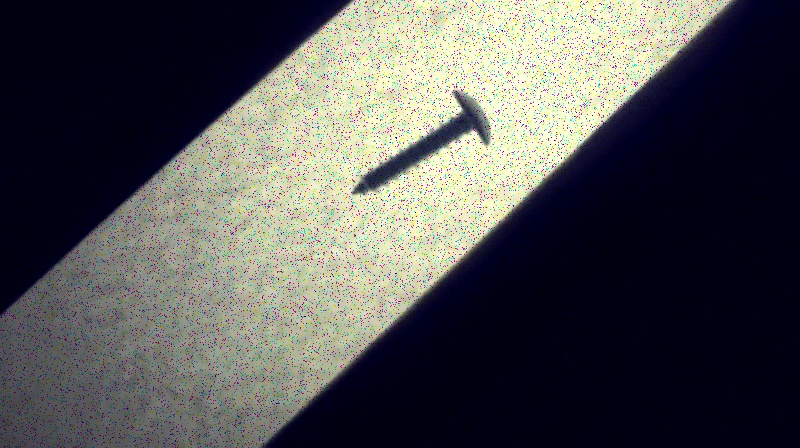S003: (346, 87, 497, 196)
